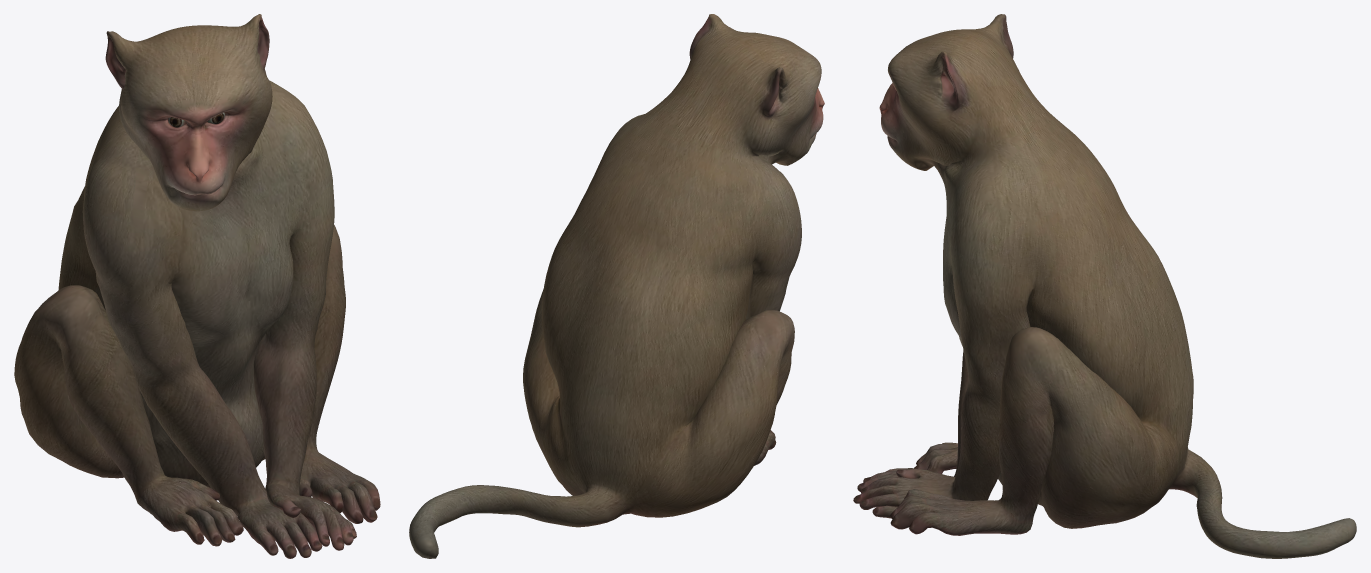
The picture shows the model from 3 angles, left to right: view 1: azimuth 30°, elevation 25°; view 2: azimuth 150°, elevation 25°; view 3: azimuth 270°, elevation 25°; orthographic projection. The views are drawn at different scales.
Visible parts, largest first — view 1: node_id79_1; view 2: node_id79_1; view 3: node_id79_1.
Boxes of the visible parts, x1,y1,x2,y2 form: node_id79_1: (14,14,380,558); node_id79_1: (409,14,824,558); node_id79_1: (853,14,1356,558).
Bounding box in the file's own units: 0.3264 × 0.512 × 0.5203.
Materials: 1 (1 with a texture image).
